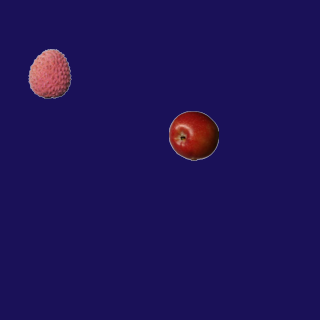Apple Braeburn: (168, 110, 218, 160)
Lychee: (24, 48, 74, 98)
